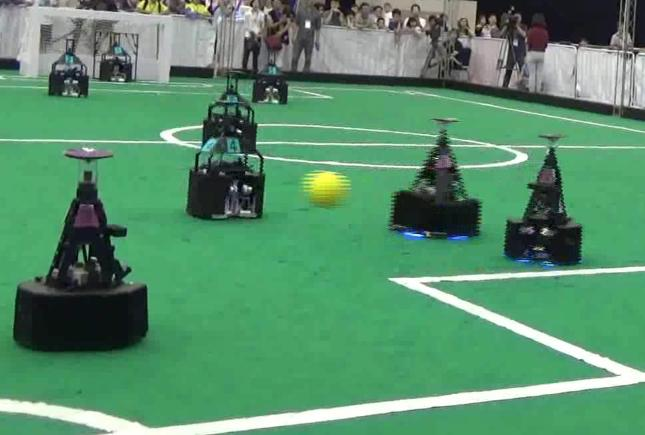robot: (11, 144, 154, 355), (387, 114, 488, 242), (501, 128, 589, 273), (183, 94, 268, 224), (43, 34, 95, 100), (248, 42, 291, 106), (99, 26, 142, 86)
